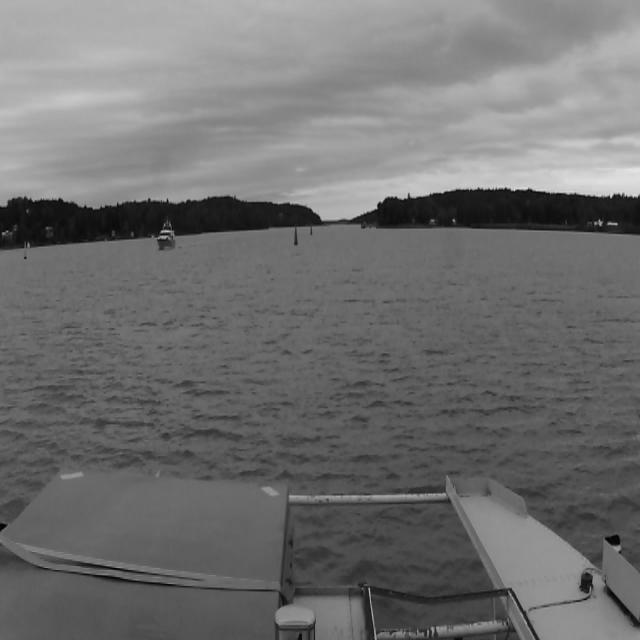buoy: (290, 225, 300, 242), (294, 227, 298, 244), (24, 242, 27, 258), (310, 227, 312, 234)
ship: (158, 220, 176, 250)
